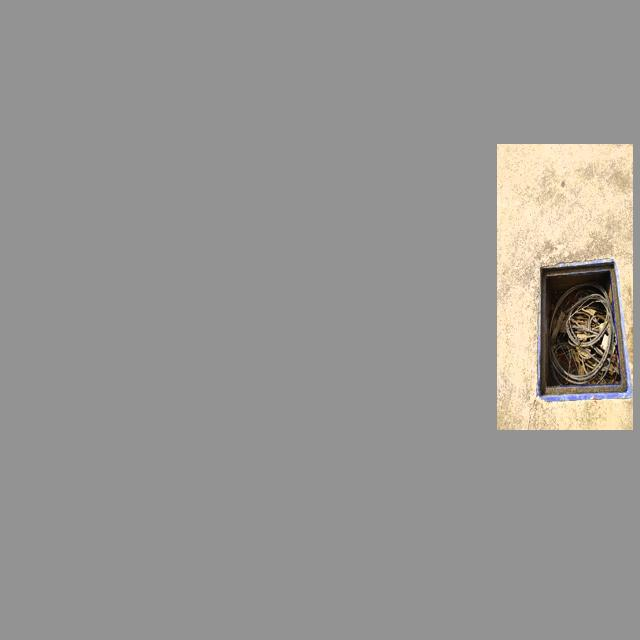lose: (536, 258, 633, 401)
